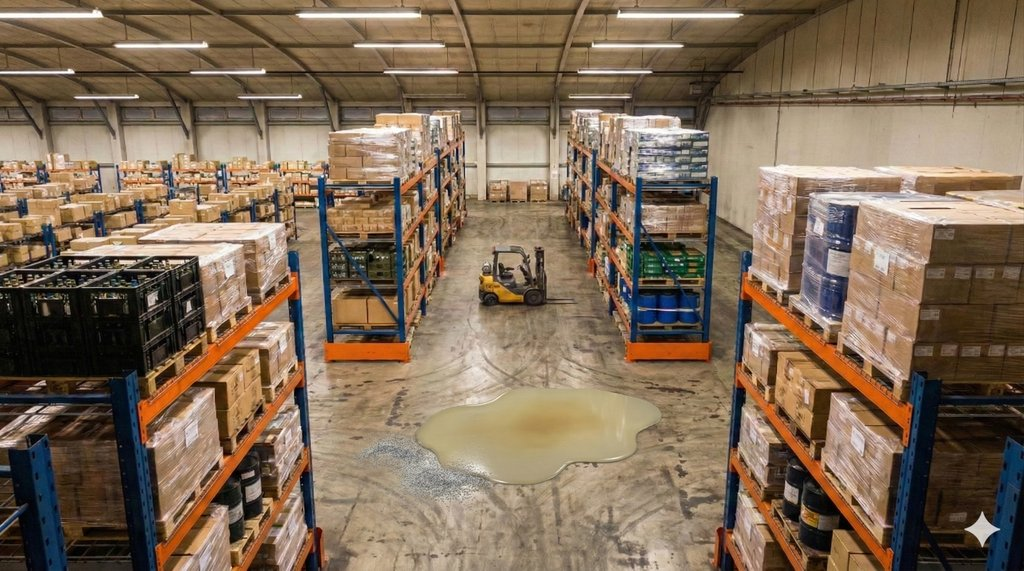forklift: (458, 233, 580, 310)
spill: (371, 376, 677, 497)
